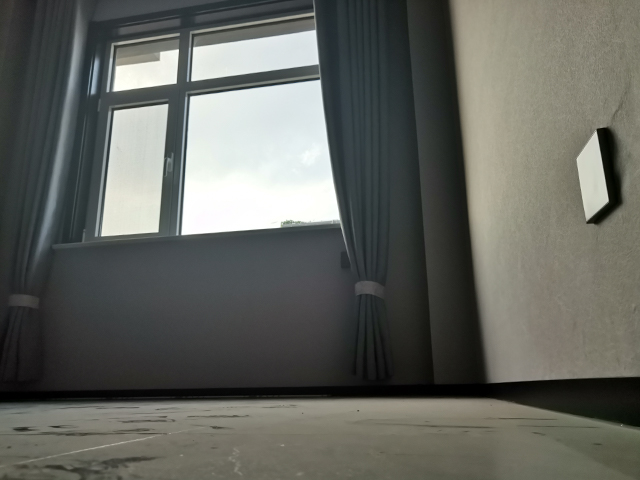curtain: (1, 1, 94, 385), (311, 1, 401, 383)
